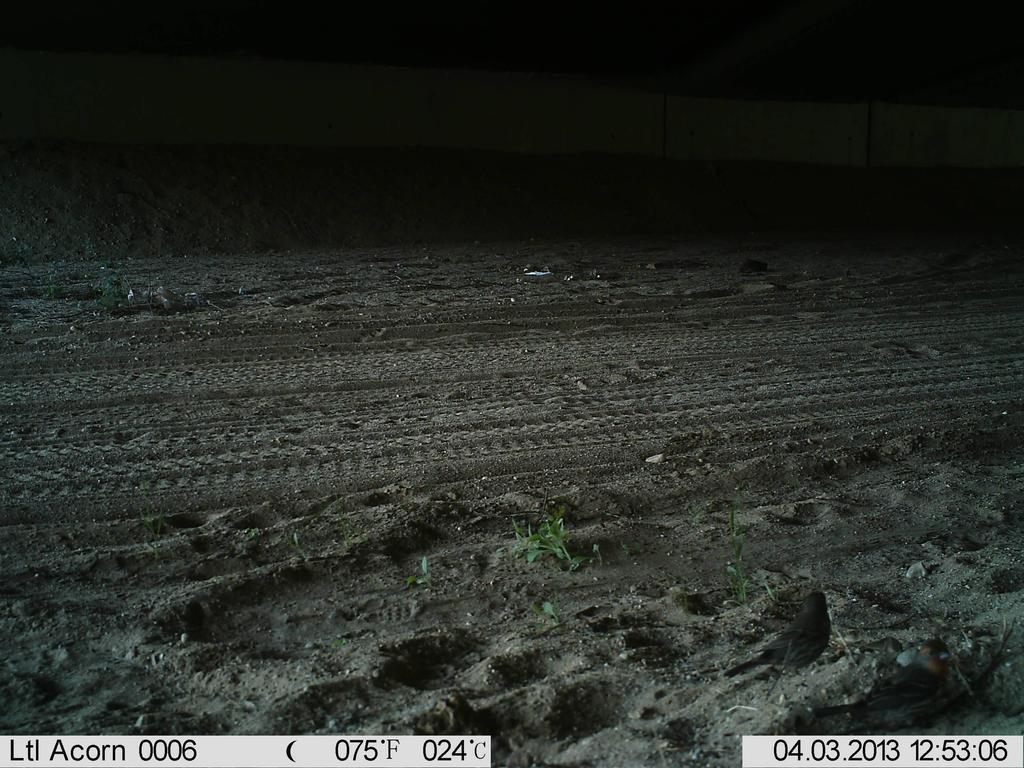bird: (815, 634, 967, 727), (722, 578, 844, 687)
